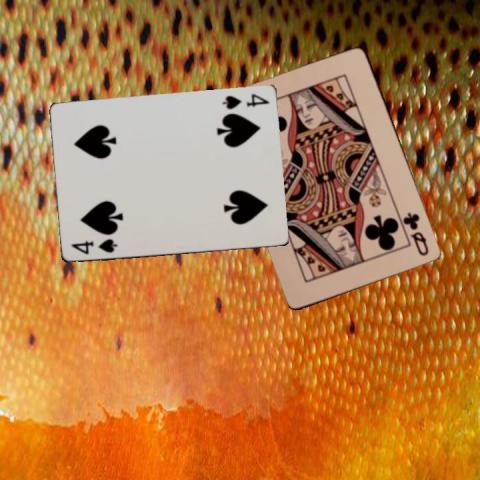4s: (68, 236, 119, 256), (219, 92, 270, 112)
Qc: (400, 210, 430, 258)
